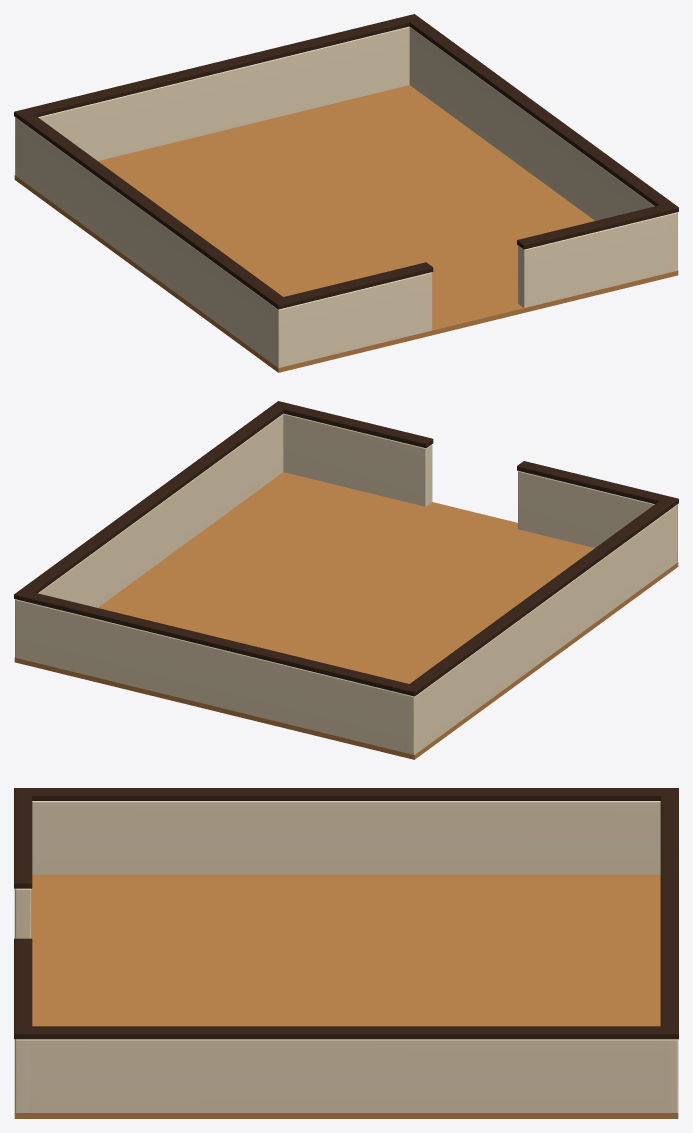
File: room_cut_7x8.glb
3 views of the same model, one above another, from view 1: azimuth 30°, elevation 25°; view 2: azimuth 150°, elevation 25°; view 3: azimuth 270°, elevation 25° (orthographic). The views are drawn at different scales.
Visible parts, largest first — view 1: Floor, Wall2, Wall3, Wall4, Wall0, Wall1, Cap2, Cap3, Cap4, Cap0, Cap1; view 2: Floor, Wall2, Wall3, Wall4, Wall1, Wall0, Cap2, Cap4, Cap3, Cap1, Cap0; view 3: Floor, Wall4, Wall3, Cap4, Cap3, Cap2, Cap1, Cap0, Wall1, Wall2, Wall0.
Part boxes in pixels (x1=…): Floor: x1=14, y1=85, x2=678, y2=372; Wall2: x1=15, y1=26, x2=409, y2=177; Wall3: x1=15, y1=118, x2=288, y2=366; Wall4: x1=409, y1=27, x2=677, y2=272; Wall0: x1=272, y1=272, x2=432, y2=367; Wall1: x1=518, y1=212, x2=677, y2=307; Cap2: x1=14, y1=14, x2=420, y2=120; Cap3: x1=14, y1=109, x2=290, y2=309; Cap4: x1=404, y1=14, x2=678, y2=213; Cap0: x1=271, y1=262, x2=433, y2=309; Cap1: x1=517, y1=204, x2=678, y2=249; Floor: x1=14, y1=472, x2=678, y2=759; Wall2: x1=15, y1=599, x2=420, y2=754; Wall3: x1=404, y1=505, x2=677, y2=754; Wall4: x1=17, y1=414, x2=283, y2=658; Wall1: x1=283, y1=413, x2=432, y2=506; Wall0: x1=518, y1=471, x2=677, y2=562; Cap2: x1=14, y1=590, x2=421, y2=696; Cap4: x1=14, y1=401, x2=289, y2=601; Cap3: x1=402, y1=496, x2=678, y2=695; Cap1: x1=272, y1=401, x2=433, y2=448; Cap0: x1=517, y1=461, x2=678, y2=507; Floor: x1=14, y1=874, x2=678, y2=1118; Wall4: x1=14, y1=1039, x2=677, y2=1112; Wall3: x1=32, y1=801, x2=660, y2=874; Cap4: x1=14, y1=1026, x2=678, y2=1039; Cap3: x1=14, y1=788, x2=678, y2=800; Cap2: x1=660, y1=788, x2=678, y2=1039; Cap1: x1=14, y1=938, x2=32, y2=1039; Cap0: x1=14, y1=788, x2=32, y2=888; Wall1: x1=14, y1=1039, x2=29, y2=1112; Wall2: x1=663, y1=1039, x2=678, y2=1112; Wall0: x1=14, y1=888, x2=31, y2=938.
Size of the model in its own units: 7.02 by 1.14 by 8.02.
